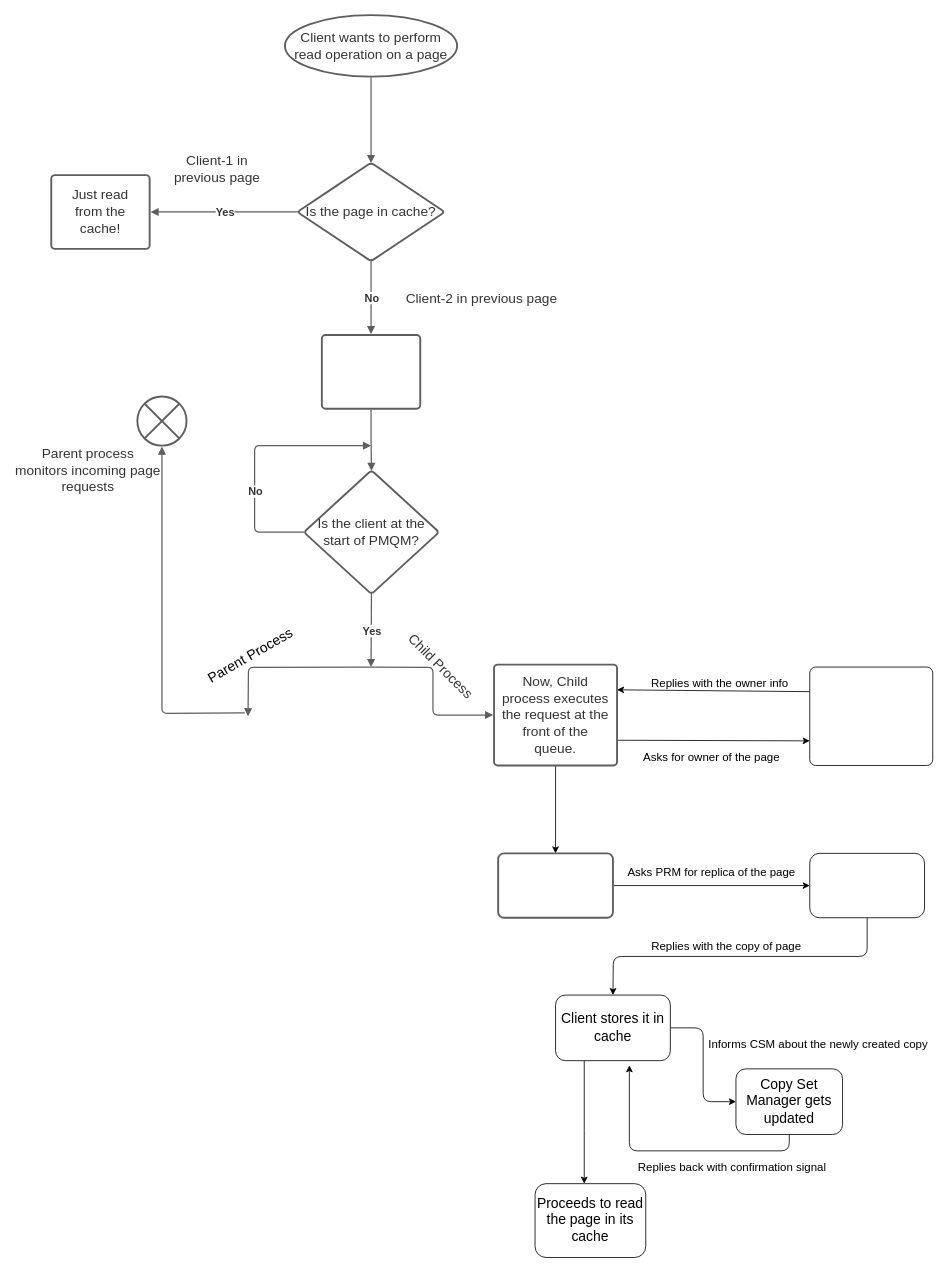
Image size: 947x1272. Some labels were removed from this diagram. Each missing label, with the box of its shape:
Ask owner for the copy: (497, 852, 614, 918)
Client gets added in the PMQM: (321, 334, 421, 409)
Page Ownership Manager: (809, 666, 933, 765)
Page Replication Manager: (809, 853, 925, 918)
